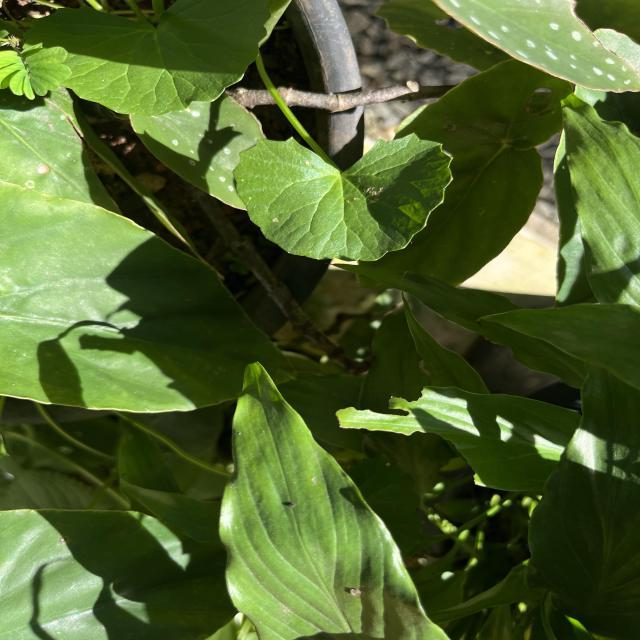Centella asiatica: (21, 0, 276, 120), (230, 130, 458, 264)
